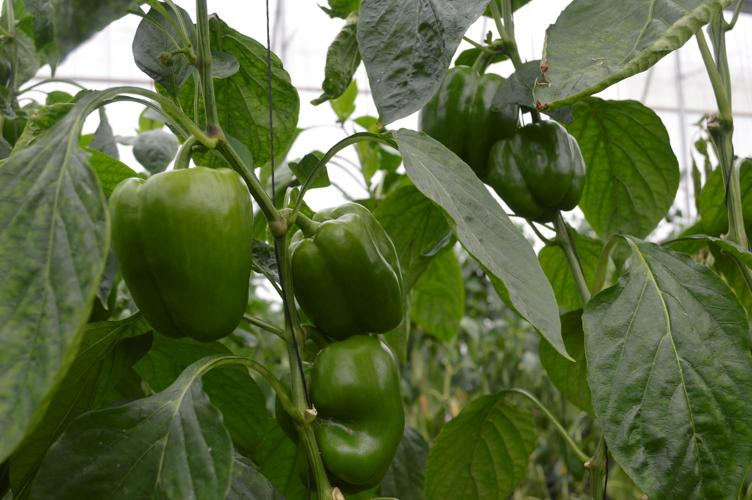BellPepper: (105, 167, 258, 340), (284, 336, 411, 492), (277, 202, 413, 336), (406, 57, 526, 186), (490, 114, 595, 226)
